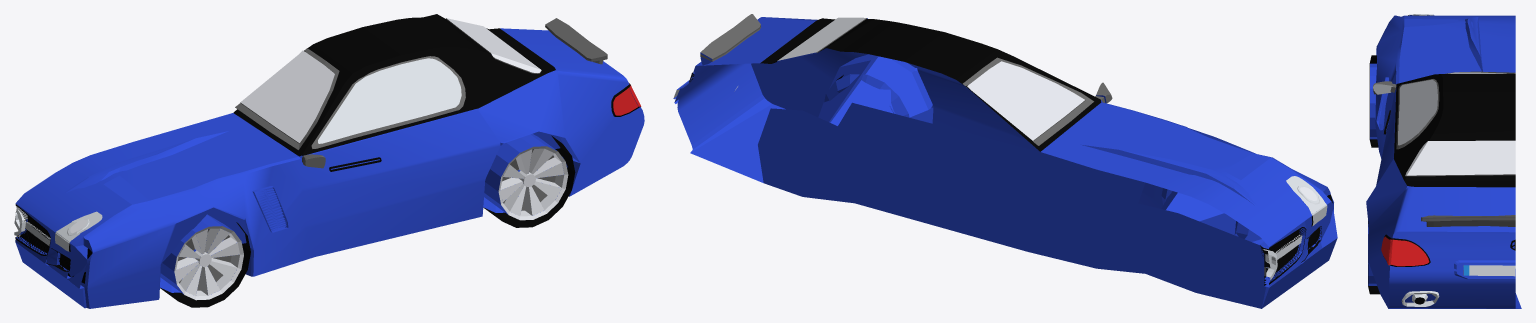
File: car_blend_2.glb
3 views of the same model, side by side, from view 1: azimuth 30°, elevation 25°; view 2: azimuth 150°, elevation 25°; view 3: azimuth 270°, elevation 25° (orthographic). The views are drawn at different scales.
Visible parts, largest first — view 1: Cube; view 2: Cube; view 3: Cube.
Boxes of the visible parts, box(x1,y1,x2,y2) form: Cube: box(14, 14, 644, 308); Cube: box(673, 14, 1337, 308); Cube: box(1366, 14, 1521, 308).
Size of the model in its own units: 11.82 by 3.31 by 2.97.
